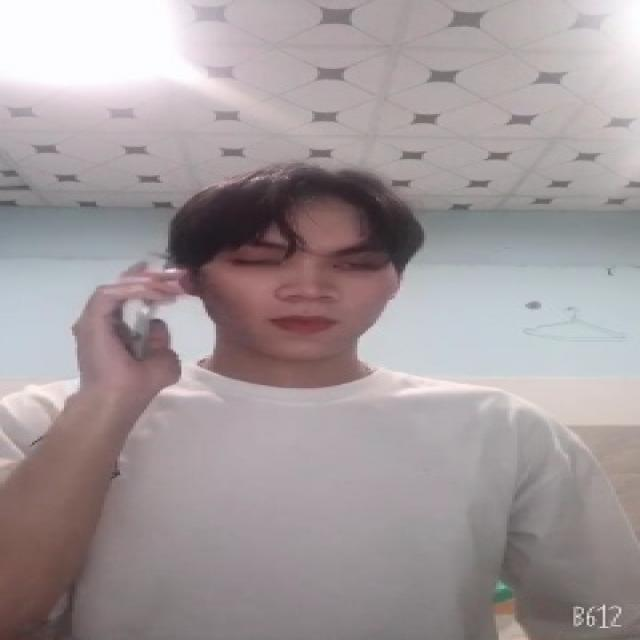Phone: (126, 255, 182, 367)
